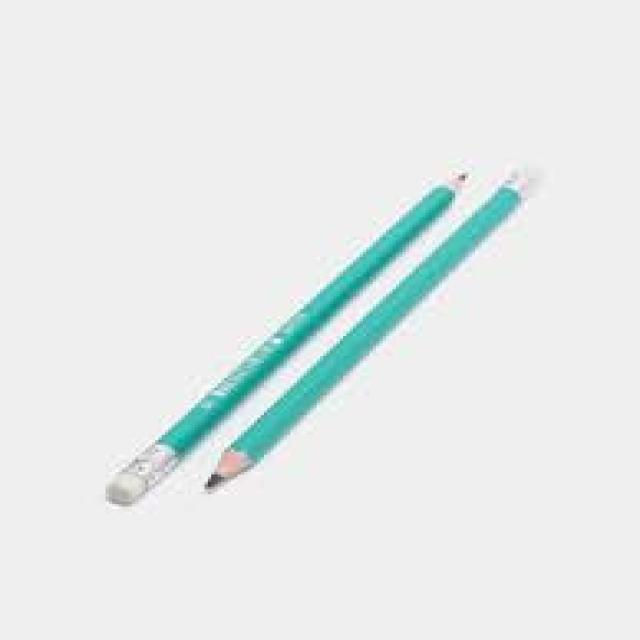pencil: (88, 161, 486, 514), (195, 165, 545, 499)
